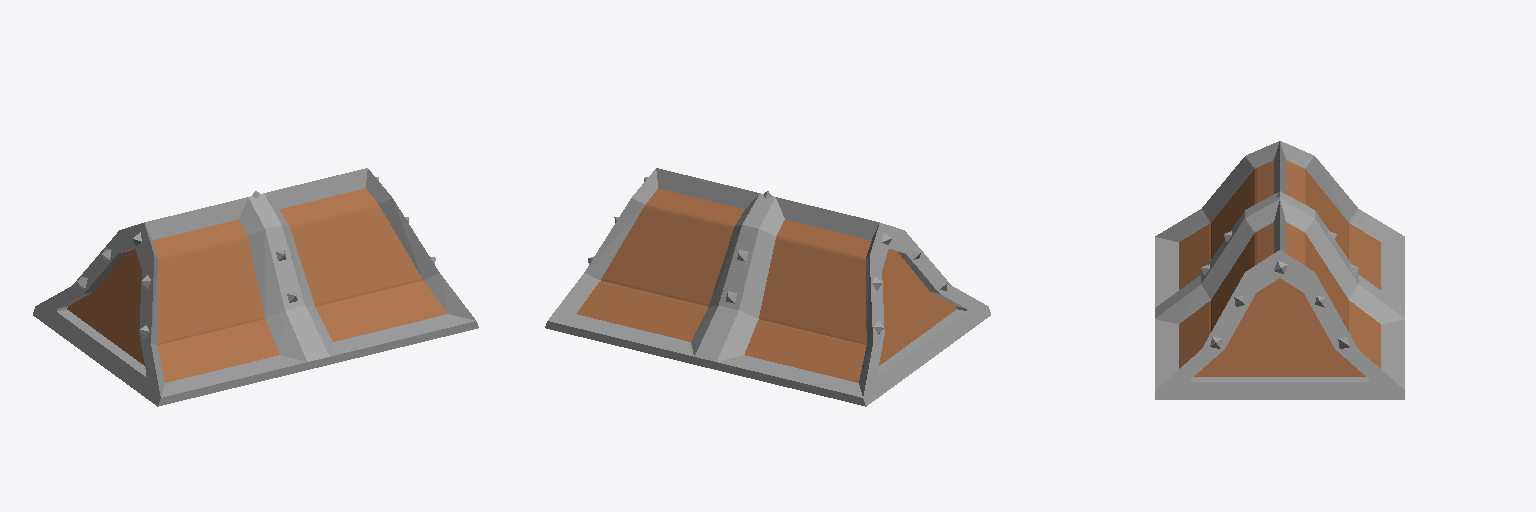
File: chest_part1.obj
3 views of the same model, side by side, from view 1: azimuth 30°, elevation 25°; view 2: azimuth 150°, elevation 25°; view 3: azimuth 270°, elevation 25° (orthographic).
Bounding box in the file's own units: 7.5 × 2.92 × 5.06.